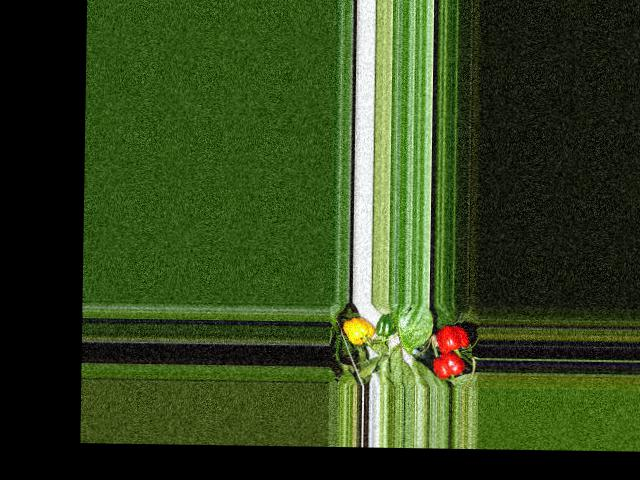bell_pepper: (340, 314, 375, 346)
